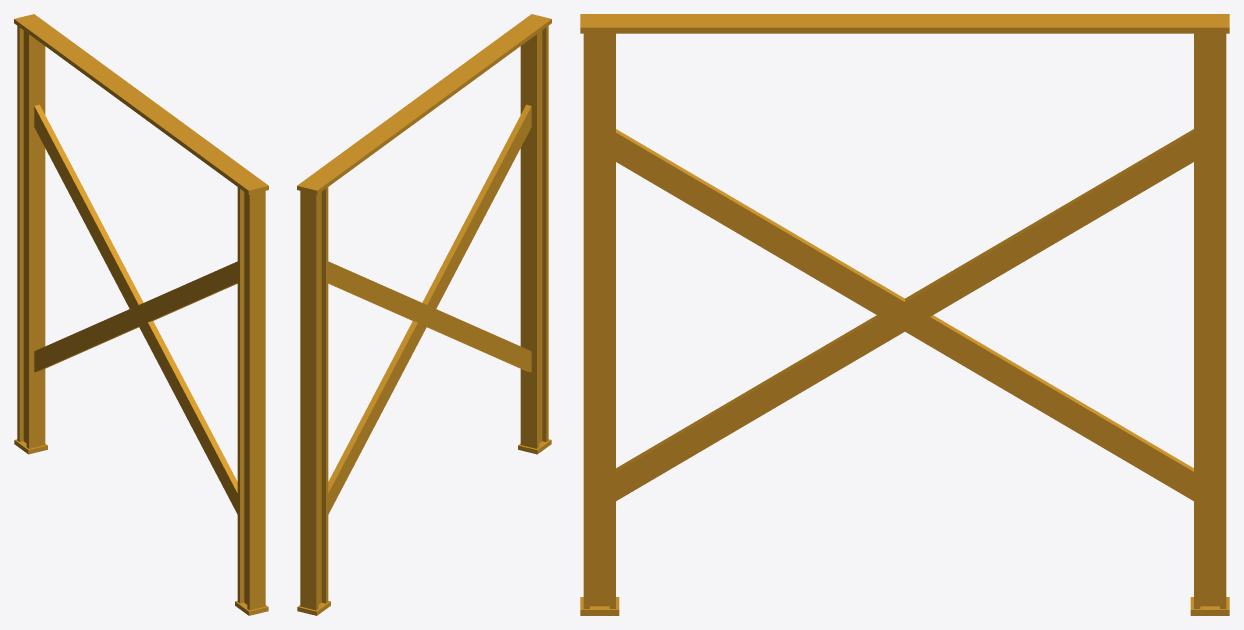
Rendered from Catwalk_Support_2m_Cross.fbx.
3 renders of one model, left to right at view 1: azimuth 30°, elevation 25°; view 2: azimuth 150°, elevation 25°; view 3: azimuth 270°, elevation 25°, orthographic. The views are drawn at different scales.
Visible parts, largest first — view 1: Catwalk_Support_2m_Cross; view 2: Catwalk_Support_2m_Cross; view 3: Catwalk_Support_2m_Cross.
Boxes of the visible parts, x1=… form: Catwalk_Support_2m_Cross: x1=14, y1=14, x2=268, y2=615; Catwalk_Support_2m_Cross: x1=297, y1=14, x2=551, y2=615; Catwalk_Support_2m_Cross: x1=580, y1=14, x2=1229, y2=615.
Bounding box in the file's own units: 10 × 200 × 200.
